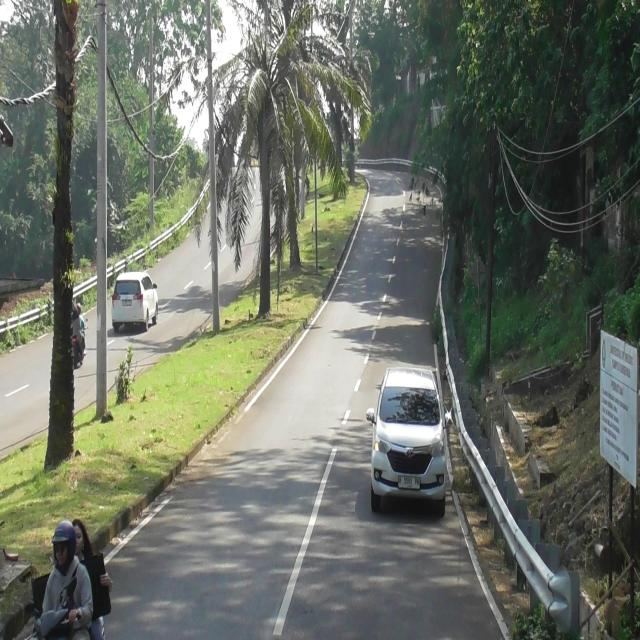person: (38, 523, 92, 640), (71, 519, 111, 640)
